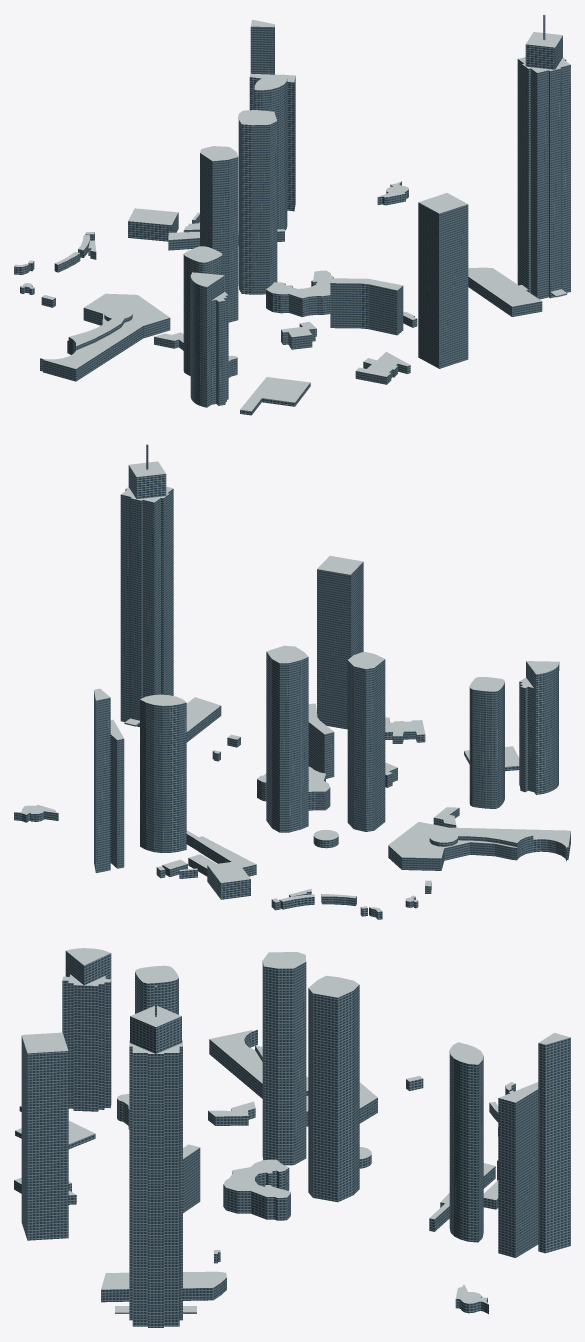
3 renders of one model, top to bottom at view 1: azimuth 30°, elevation 25°; view 2: azimuth 150°, elevation 25°; view 3: azimuth 270°, elevation 25°, orthographic. The views are drawn at different scales.
Size of the model in its own units: 772 by 420 by 642.
2 materials, 1 textured.
